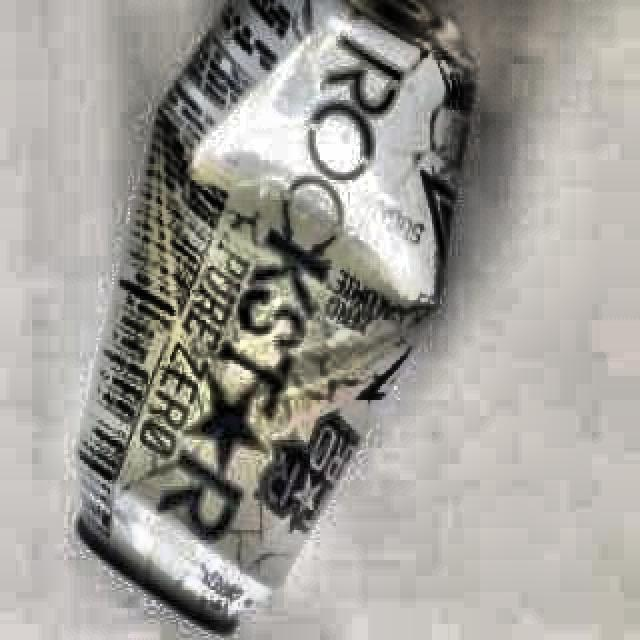metal: (68, 0, 484, 636)
